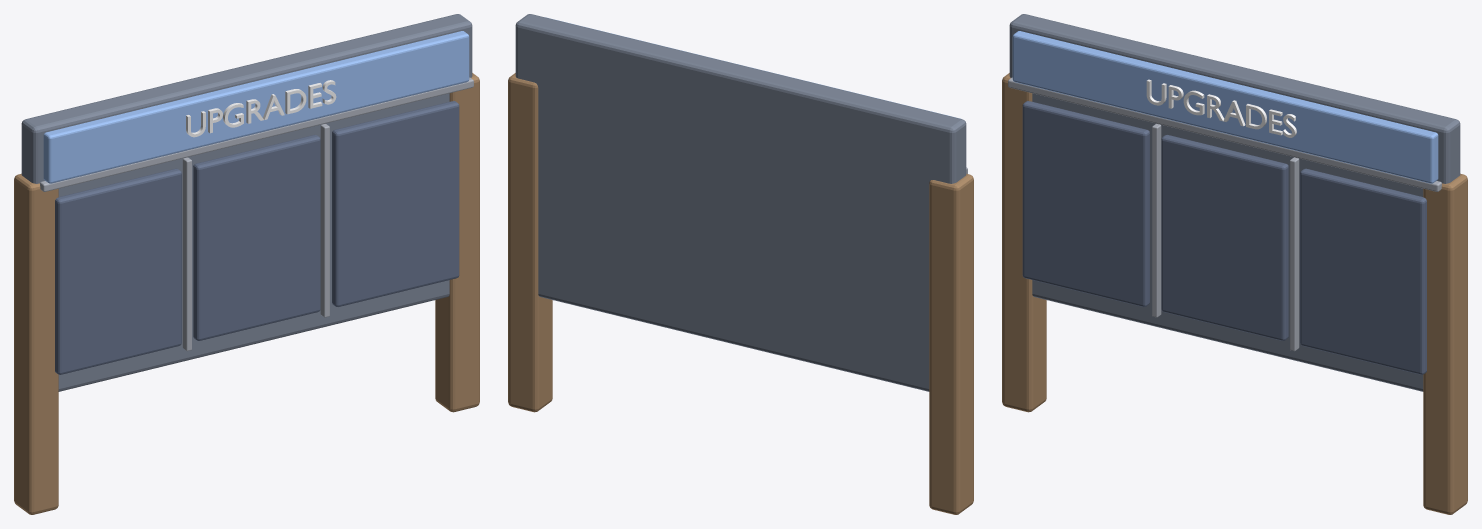
Rendered from UpgradeSign.fbx.
The picture shows the model from 3 angles, left to right: view 1: azimuth 30°, elevation 25°; view 2: azimuth 150°, elevation 25°; view 3: azimuth 330°, elevation 25°; orthographic projection.
Parts seen in each view (by area): view 1: PickaxesPanel, RollsPanel, LuckPanel, Header, Board, LegL, LegR, HeaderLip, HeaderText, DivL, DivR; view 2: Board, LegL, LegR; view 3: PickaxesPanel, LuckPanel, RollsPanel, Header, Board, LegR, LegL, HeaderLip, HeaderText, DivL, DivR.
Boxes of the visible parts, box(x1,y1,x2,y2) form: PickaxesPanel: box(193, 134, 320, 340); RollsPanel: box(332, 101, 459, 306); LuckPanel: box(55, 168, 181, 374); Header: box(43, 31, 469, 183); Board: box(21, 14, 472, 391); LegL: box(14, 173, 58, 514); LegR: box(435, 73, 479, 412); HeaderLip: box(40, 77, 473, 191); HeaderText: box(186, 80, 336, 137); DivL: box(182, 157, 191, 351); DivR: box(320, 124, 329, 317); Board: box(515, 14, 966, 391); LegL: box(929, 173, 973, 514); LegR: box(508, 73, 552, 412); PickaxesPanel: box(1161, 134, 1288, 340); LuckPanel: box(1022, 101, 1149, 306); RollsPanel: box(1300, 168, 1426, 374); Header: box(1012, 31, 1438, 183); Board: box(1009, 14, 1460, 391); LegR: box(1423, 173, 1467, 514); LegL: box(1002, 73, 1046, 412); HeaderLip: box(1008, 77, 1441, 191); HeaderText: box(1146, 79, 1296, 137); DivL: box(1152, 124, 1161, 317); DivR: box(1290, 157, 1299, 351).
Bounding box in the file's own units: 4.72 × 3.85 × 0.425.
